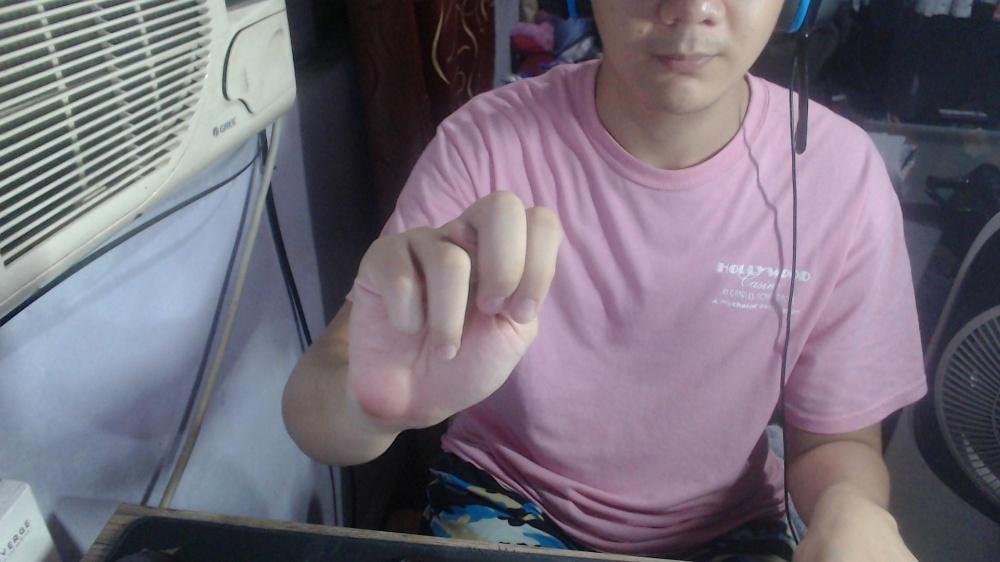n: (342, 192, 568, 429)
